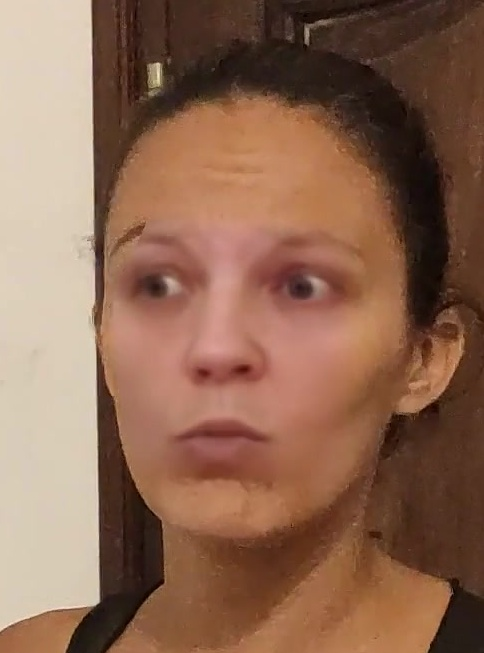eb_f: (99, 215, 379, 323)
